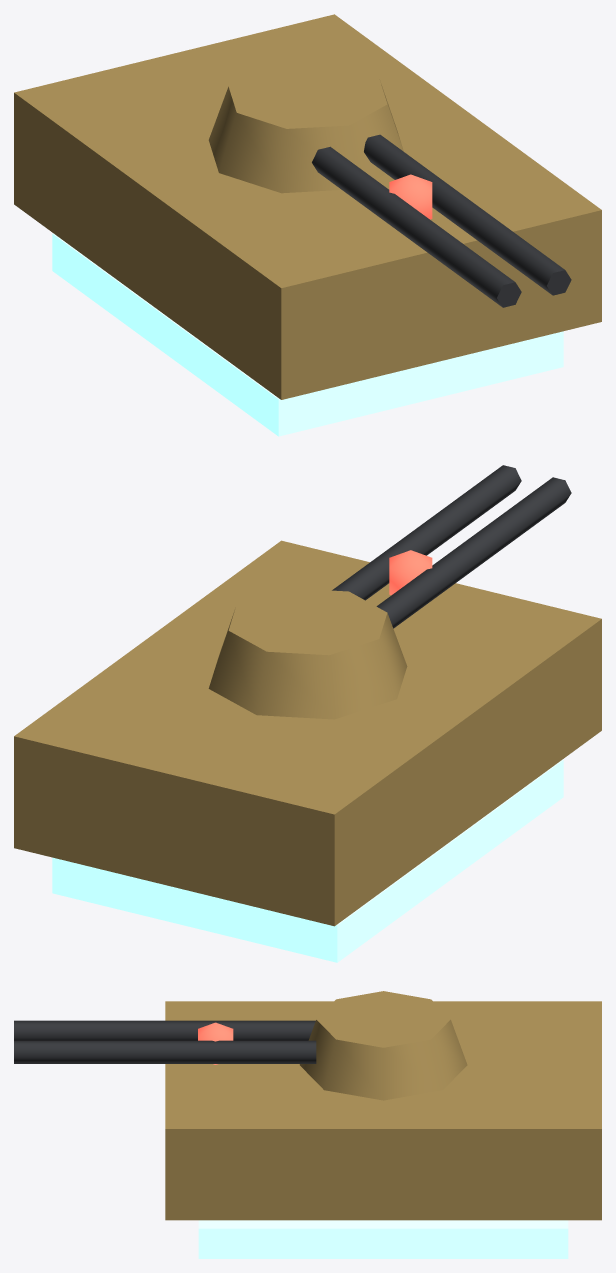
File: unit_mil_ground_drone_a10.glb
3 renders of one model, top to bottom at view 1: azimuth 30°, elevation 25°; view 2: azimuth 150°, elevation 25°; view 3: azimuth 270°, elevation 25°, orthographic. The views are drawn at different scales.
Visible parts, largest first — view 1: body, turret; view 2: body, turret; view 3: body, turret.
Boxes of the visible parts, <box> form: body: <box>14,14,601,436</box>; turret: <box>208,62,571,307</box>; body: <box>14,540,601,962</box>; turret: <box>208,465,571,719</box>; body: <box>165,1001,601,1258</box>; turret: <box>14,991,467,1100</box>.
Size of what is drawn, in the model's own units: 0.9 by 0.6 by 1.75.
